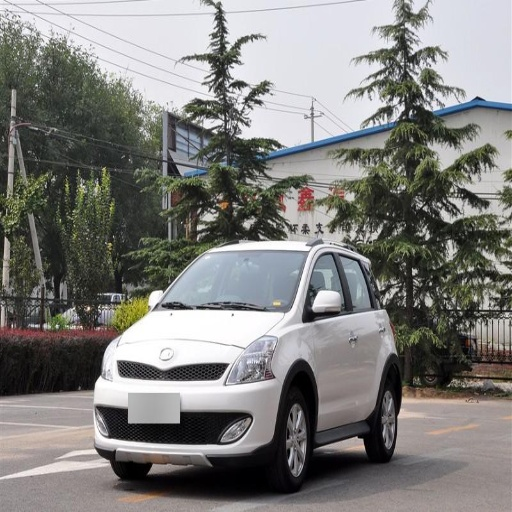front_bumper: (97, 339, 283, 464)
front_glass: (155, 254, 305, 311)
front_left_door: (304, 248, 354, 428)
